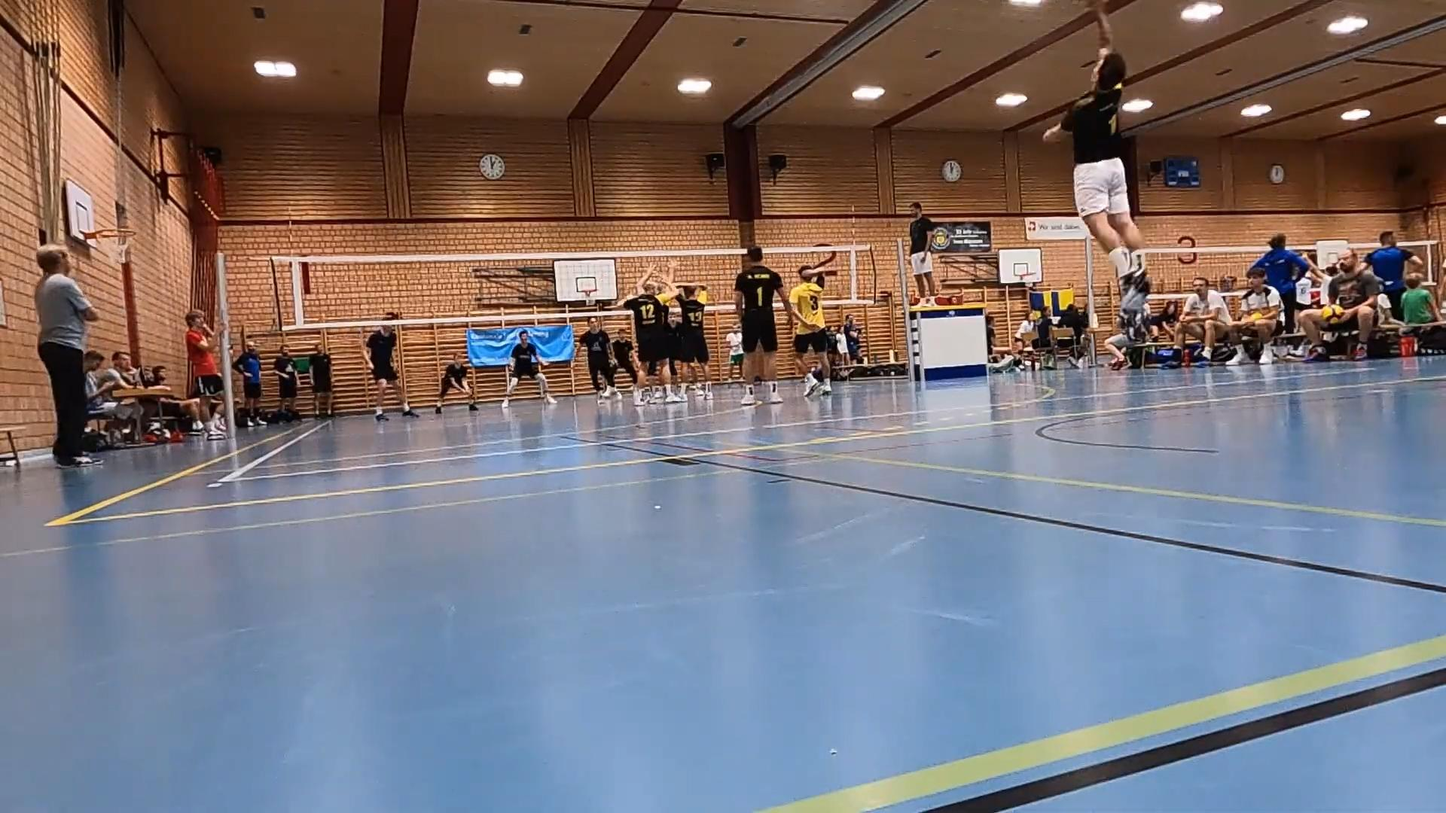battuta: (1040, 0, 1156, 320)
